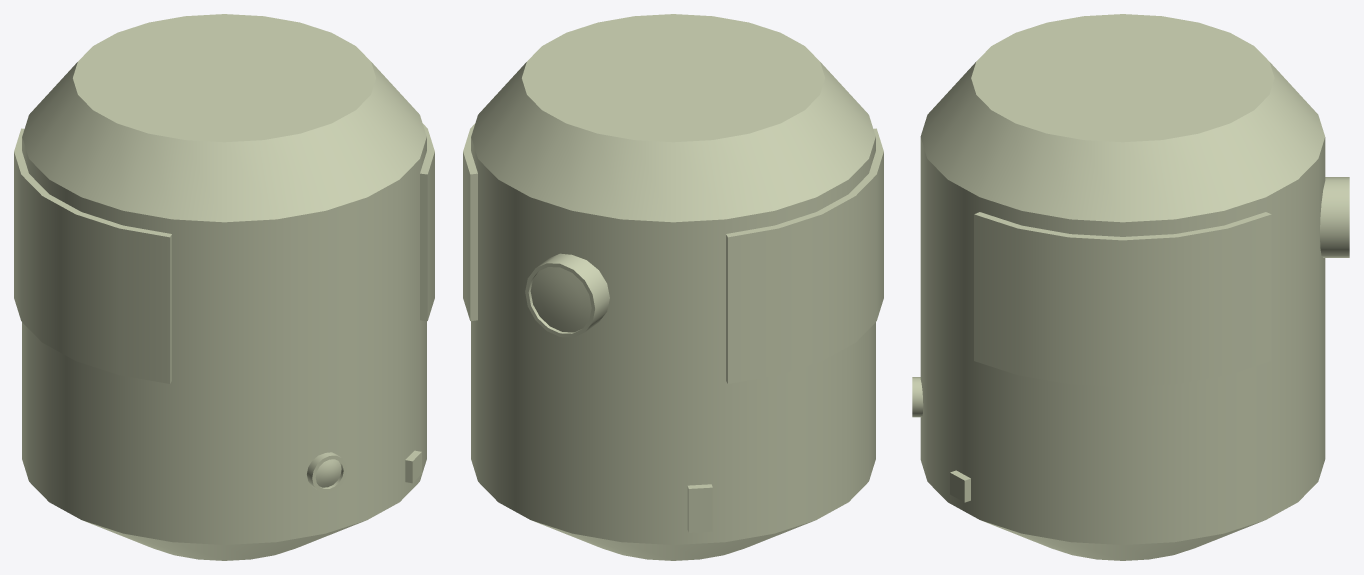
File: tantares_orbital_module_s1_4.obj
3 views of the same model, side by side, from view 1: azimuth 30°, elevation 25°; view 2: azimuth 150°, elevation 25°; view 3: azimuth 270°, elevation 25° (orthographic).
Visible parts, largest first — view 1: mesh, windows; view 2: mesh, windows; view 3: mesh.
Part boxes in pixels (x1,y1,x2,y2): mesh: [14, 14, 434, 560]; windows: [315, 459, 341, 487]; mesh: [463, 14, 883, 560]; windows: [530, 267, 591, 332]; mesh: [912, 14, 1349, 560].
Size of the model in its own units: 1.3 by 1.5 by 1.35.
